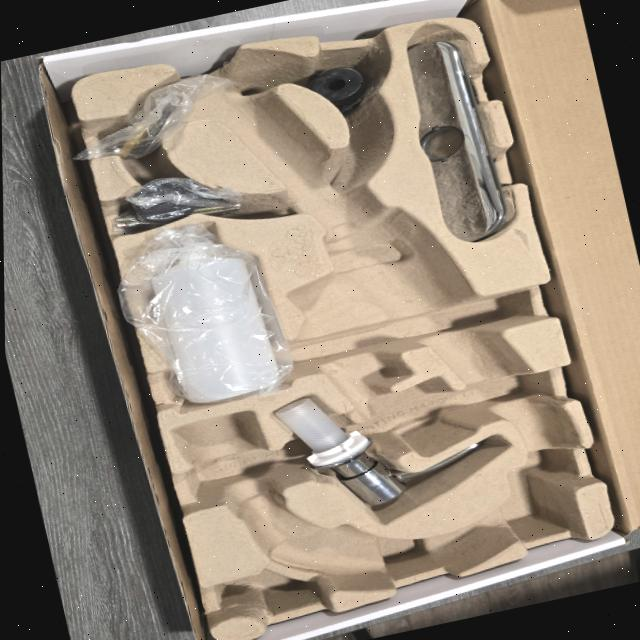1m: (164, 48, 574, 589)
2: (274, 398, 481, 508)
3: (148, 225, 281, 407)
4: (406, 41, 508, 240)
5: (312, 62, 370, 113)
6: (70, 75, 235, 161)
7: (114, 177, 245, 229)
